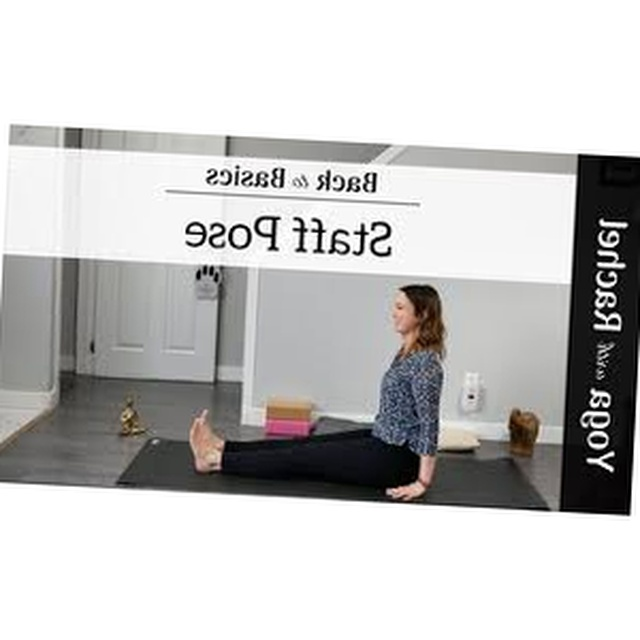Staff_Pose: (189, 283, 450, 501)
